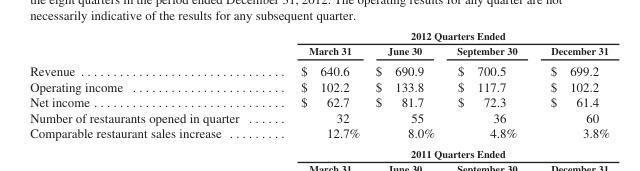table: (29, 29, 608, 139)
table column: (29, 29, 269, 139), (269, 29, 367, 139), (445, 29, 533, 139), (367, 29, 445, 139), (533, 29, 608, 139)
table column header: (29, 29, 608, 60)
table row: (29, 42, 608, 60), (29, 60, 608, 78), (29, 93, 608, 109), (29, 78, 608, 93), (29, 109, 608, 124), (29, 124, 608, 139), (29, 29, 608, 42)
table spanning cell: (269, 29, 608, 42)
